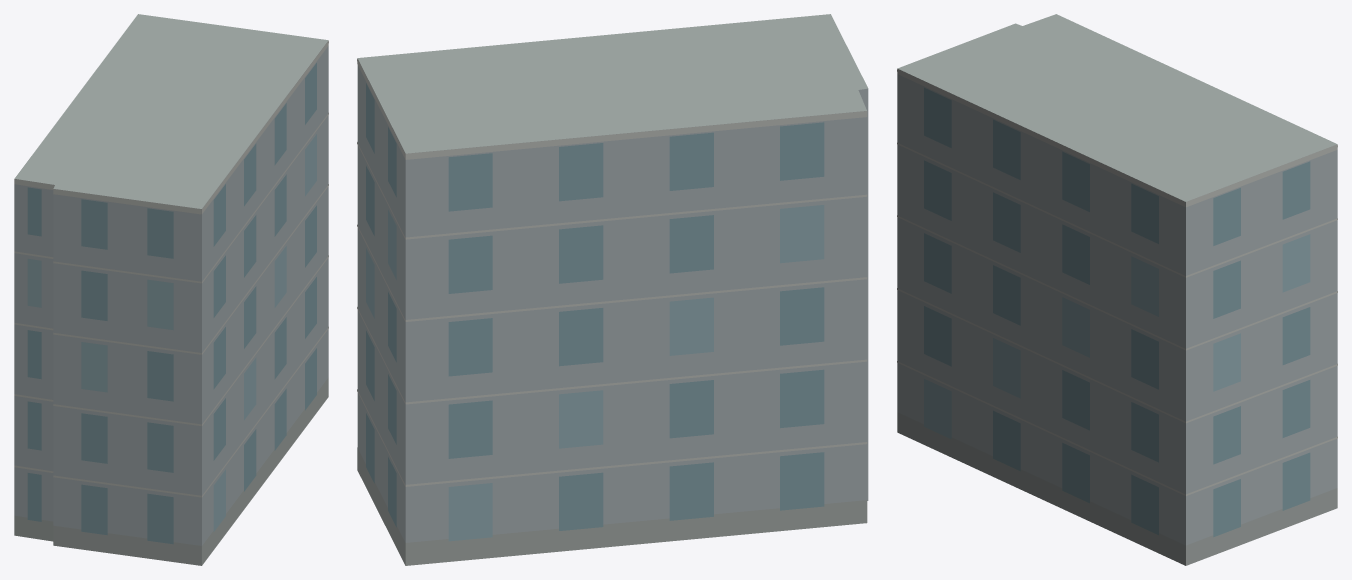
Rendered from survey-upis-32978889.glb.
3 renders of one model, left to right at view 1: azimuth 30°, elevation 25°; view 2: azimuth 150°, elevation 25°; view 3: azimuth 270°, elevation 25°, orthographic. The views are drawn at different scales.
Parts seen in each view (by area): view 1: survey-upis-32978889.tmp; view 2: survey-upis-32978889.tmp; view 3: survey-upis-32978889.tmp.
Part boxes in pixels (left/top/right/bottom): survey-upis-32978889.tmp: left=14, top=14, right=328, bottom=565; survey-upis-32978889.tmp: left=357, top=14, right=868, bottom=565; survey-upis-32978889.tmp: left=897, top=14, right=1337, bottom=565.
Size of the model in its own units: 17.85 by 16.1 by 17.67.
